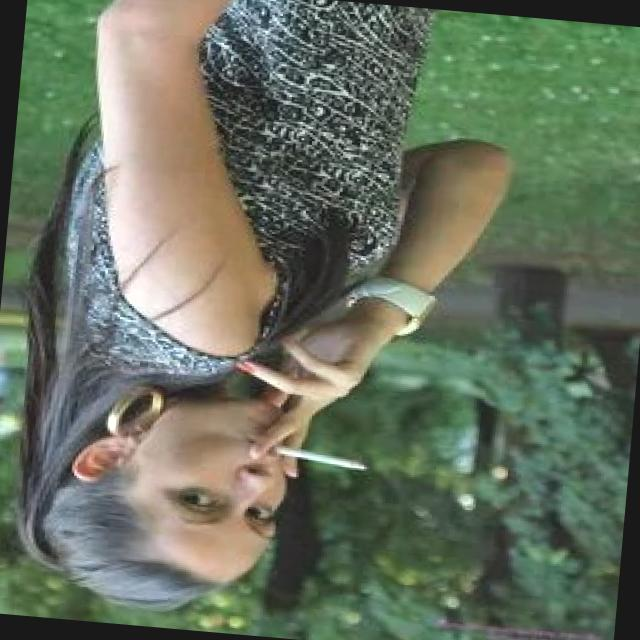smoke: (264, 434, 373, 479)
